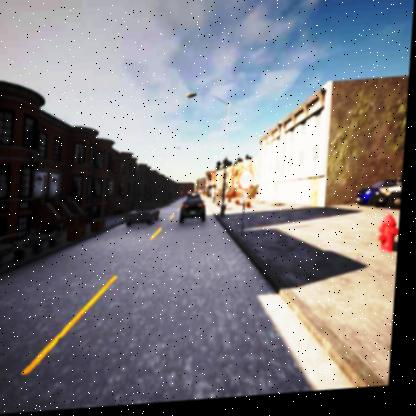vehicle: (359, 184, 404, 216), (128, 204, 163, 230), (182, 199, 209, 226)
